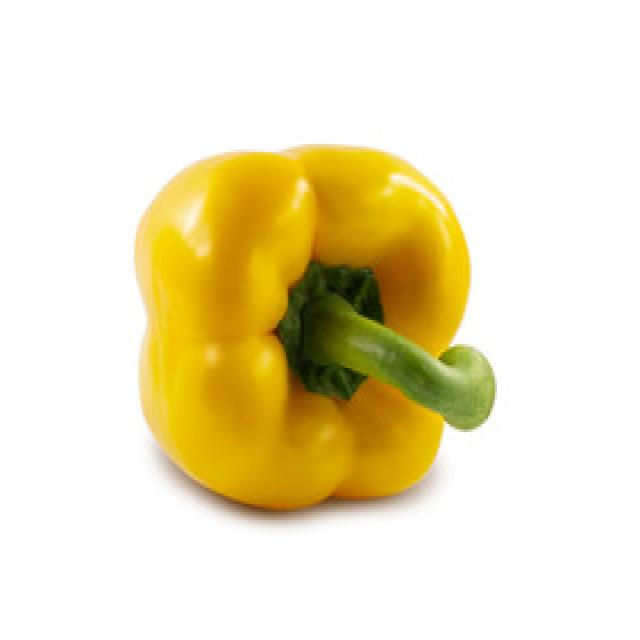Bell Pepper: (132, 142, 494, 509)
